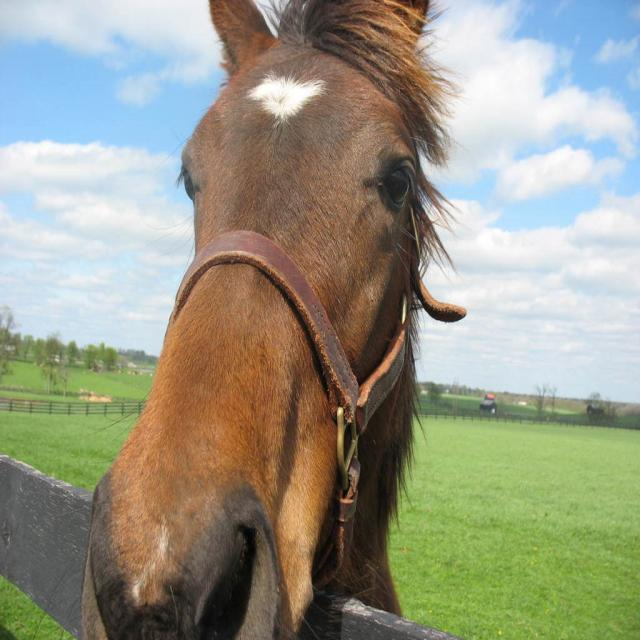Horse: (70, 0, 467, 637)
